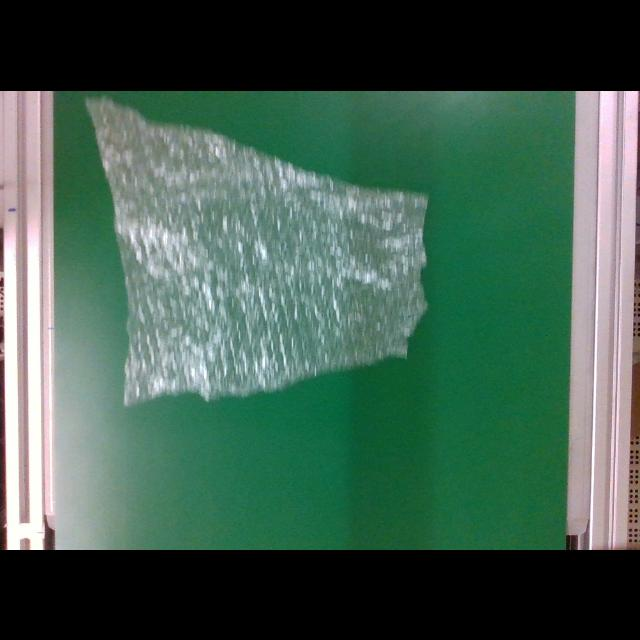scrap_plastic: (80, 92, 428, 408)
